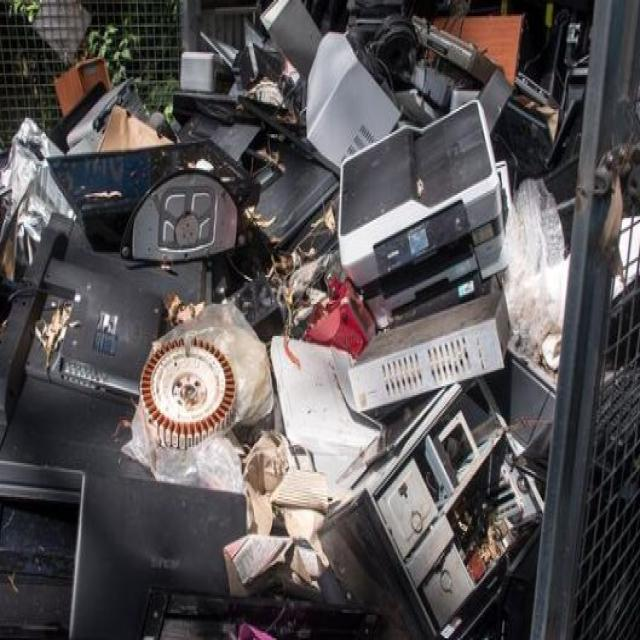electronic: (329, 374, 549, 640), (31, 111, 265, 307), (321, 118, 533, 319), (298, 13, 434, 253)
